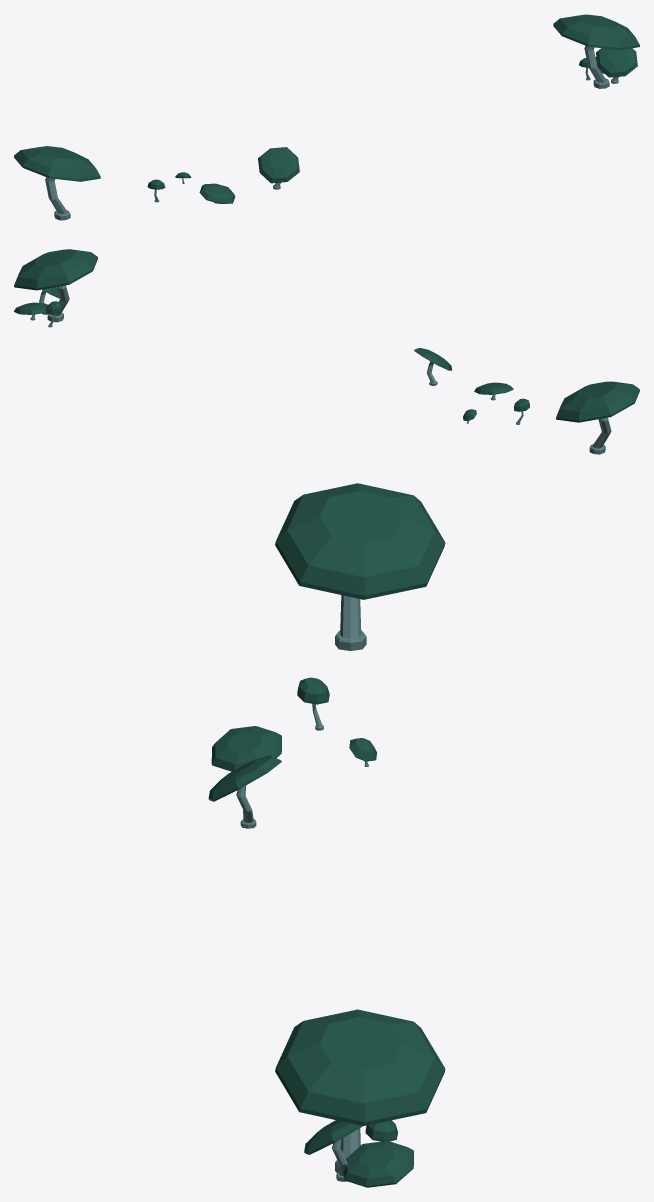
Rendered from shroom1.fbx.
3 renders of one model, top to bottom at view 1: azimuth 30°, elevation 25°; view 2: azimuth 150°, elevation 25°; view 3: azimuth 270°, elevation 25°, orthographic. The views are drawn at different scales.
Parts seen in each view (by area): view 1: Cube.006, Cube.002, Cube.003, Cube.001; view 2: Cube.006, Cube.002, Cube.003, Cube.001; view 3: Cube.006, Cube.002, Cube.001, Cube.003.
Part boxes in pixels (x1=…): Cube.006: x1=553, y1=14, x2=639, y2=88; Cube.002: x1=14, y1=146, x2=100, y2=220; Cube.003: x1=258, y1=147, x2=299, y2=189; Cube.001: x1=199, y1=183, x2=235, y2=203; Cube.006: x1=14, y1=249, x2=97, y2=327; Cube.002: x1=556, y1=381, x2=639, y2=454; Cube.003: x1=414, y1=348, x2=451, y2=385; Cube.001: x1=474, y1=382, x2=513, y2=400; Cube.006: x1=275, y1=1009, x2=445, y2=1187; Cube.002: x1=275, y1=483, x2=445, y2=650; Cube.001: x1=211, y1=726, x2=281, y2=771; Cube.003: x1=208, y1=755, x2=281, y2=828.
Size of the model in its own units: 20163 by 2134 by 3389.
